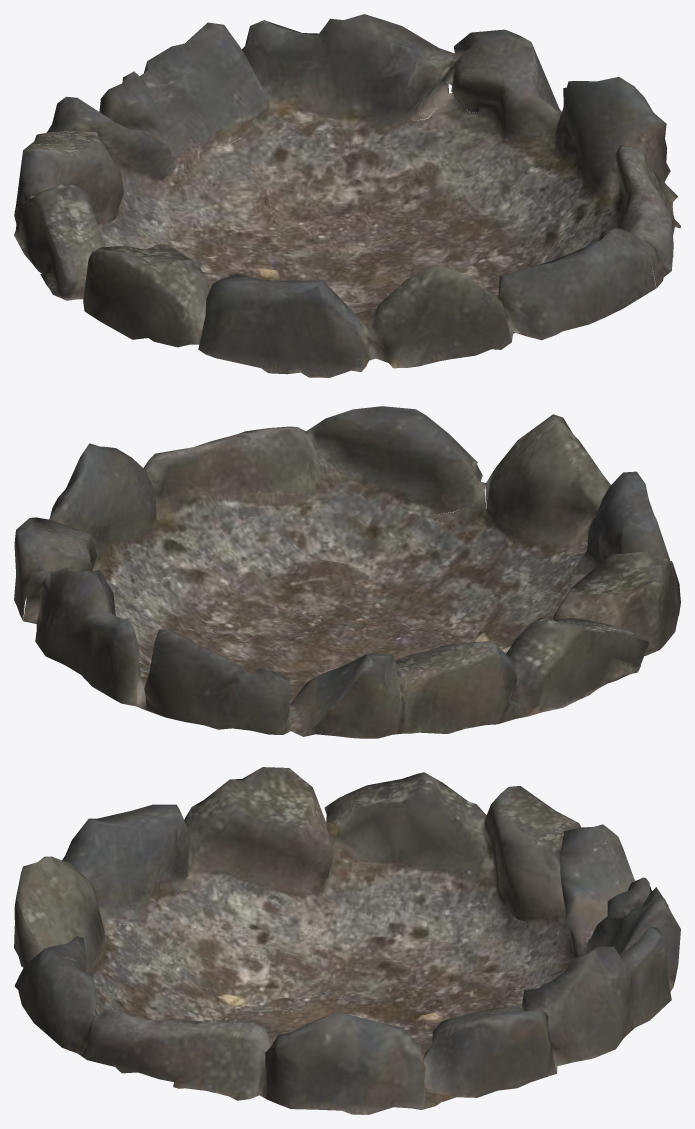
The model's file is firepit.glb.
3 views of the same model, one above another, from view 1: azimuth 30°, elevation 25°; view 2: azimuth 150°, elevation 25°; view 3: azimuth 270°, elevation 25° (orthographic).
Visible parts, largest first — view 1: stone_fire_pit; view 2: stone_fire_pit; view 3: stone_fire_pit.
Boxes of the visible parts, left/top/right/bottom form: stone_fire_pit: left=14, top=14, right=680, bottom=377; stone_fire_pit: left=14, top=406, right=680, bottom=738; stone_fire_pit: left=14, top=767, right=680, bottom=1114.
Size of the model in its own units: 1.45 by 0.3864 by 1.43.
1 material, 1 textured.
